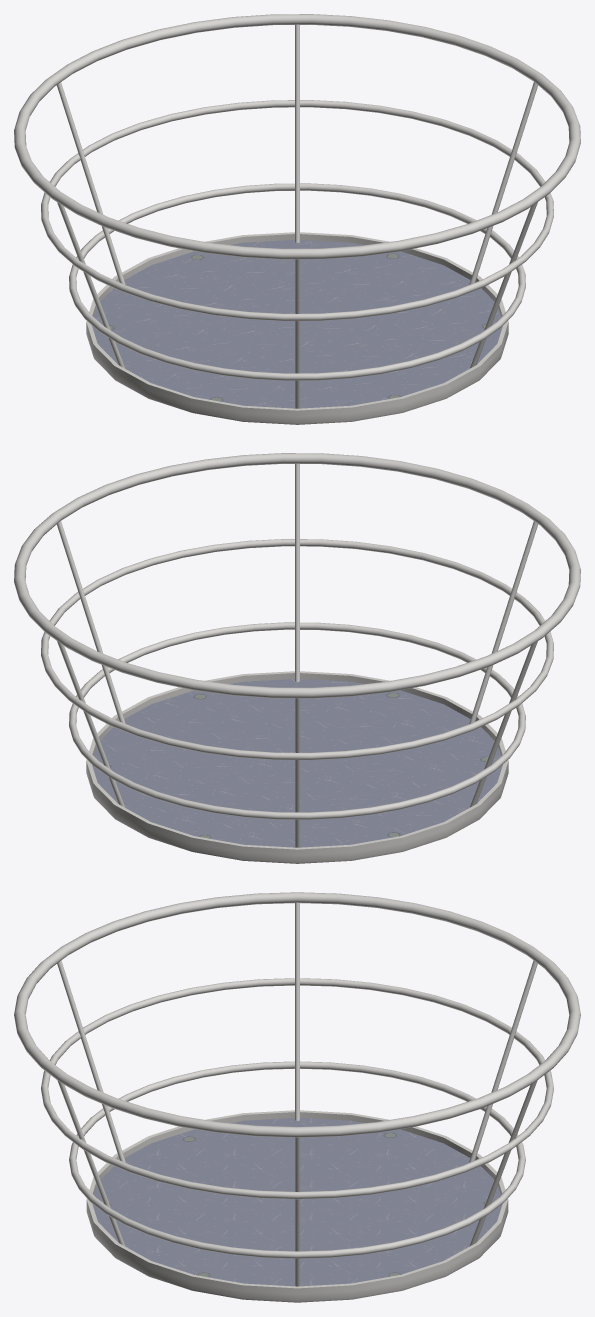
Rendered from GoGo02.FBX.
3 views of the same model, one above another, from view 1: azimuth 30°, elevation 25°; view 2: azimuth 150°, elevation 25°; view 3: azimuth 270°, elevation 25° (orthographic).
Parts seen in each view (by area): view 1: GoGo02; view 2: GoGo02; view 3: GoGo02.
Boxes of the visible parts, x1,y1,x2,y2 form: GoGo02: (14,14,580,424); GoGo02: (14,453,580,863); GoGo02: (14,892,580,1302).
Bounding box in the file's own units: 267 × 106 × 267.
